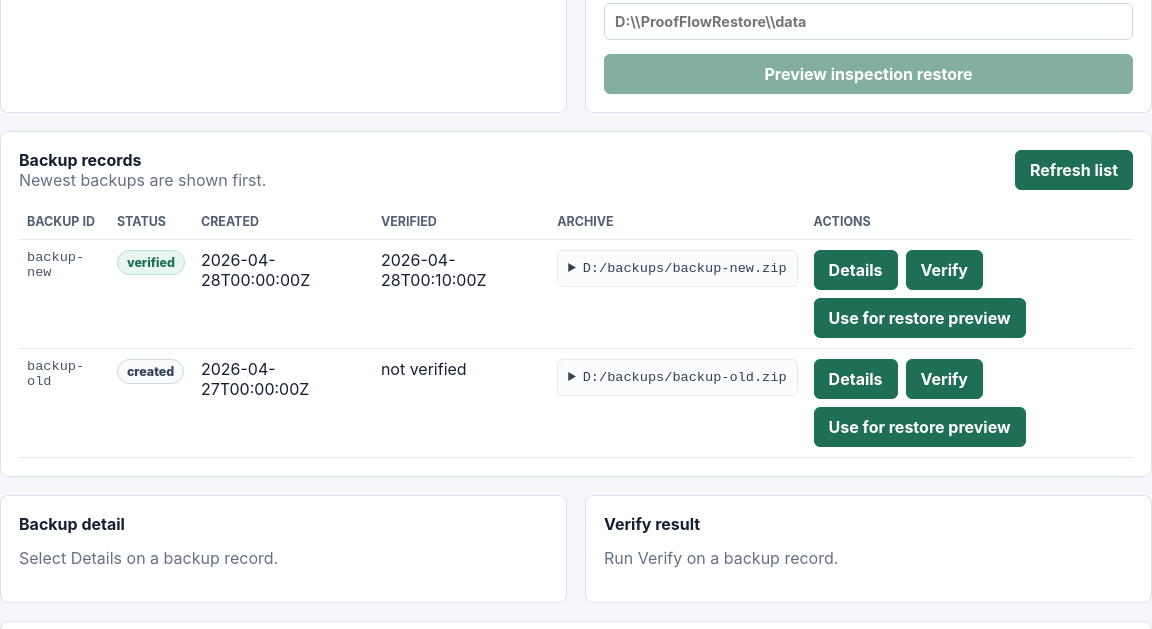
Scenario: ManagedBackupRestore › lists backups newest first and shows detail manifest summary
(page scrolled)
Check: the text "backup-new" is shown, box [19, 239, 109, 348]
Check: the text "backup-old" is shown, box [19, 348, 109, 457]
Step 1. Click the button "Details" in the row of "2026-04-28T00:00:00Z" → point(856, 270), box [814, 250, 898, 290]
(page scrolled)
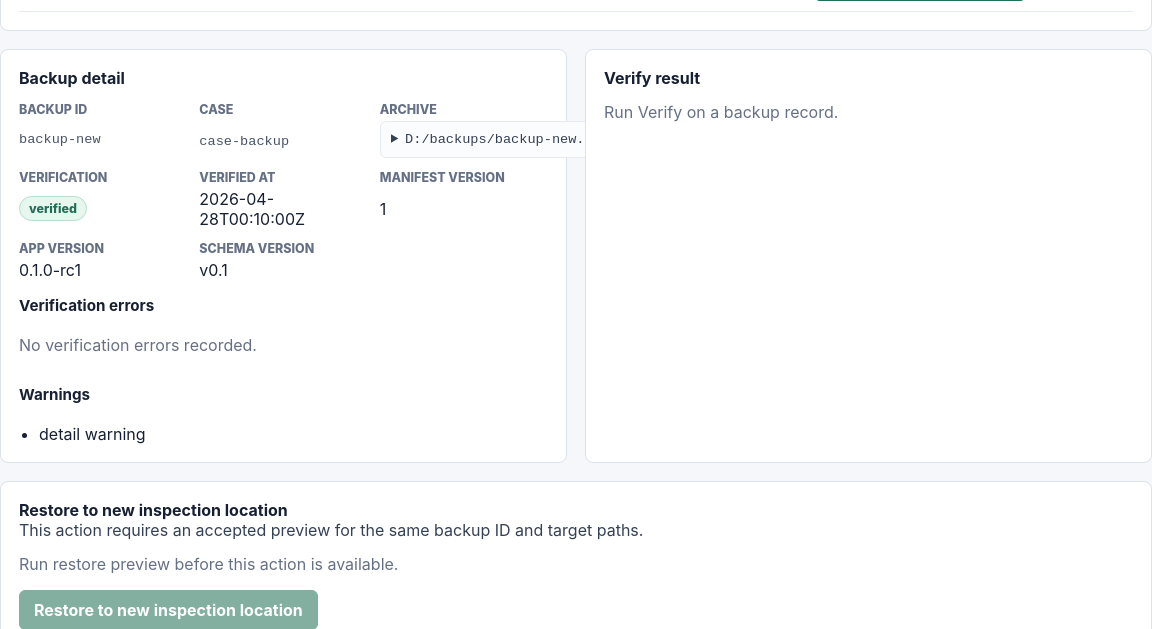
Check: the text "0.1.0-rc1" is shown, box [19, 260, 81, 280]
Check: the text "v0.1" is shown, box [199, 260, 228, 280]
